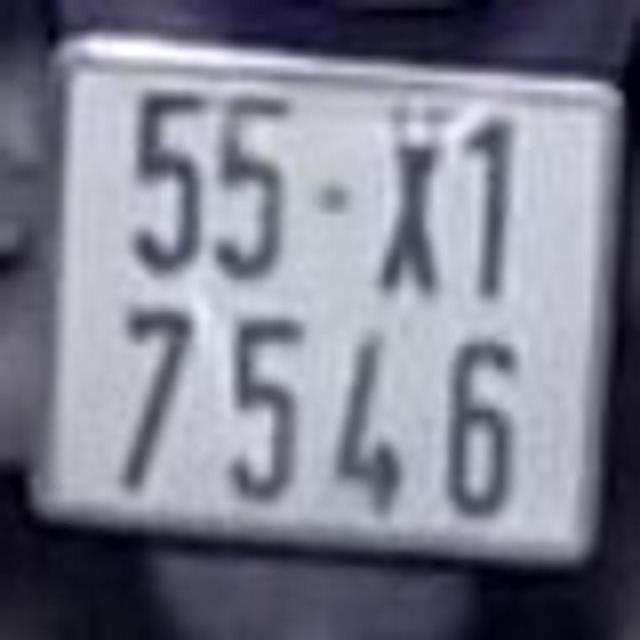1: (454, 98, 524, 305)
4: (330, 305, 411, 522)
5: (222, 302, 310, 512), (207, 82, 292, 284), (126, 82, 208, 280)
6: (437, 319, 526, 539)
7: (113, 303, 202, 496)
X: (374, 99, 456, 296)
